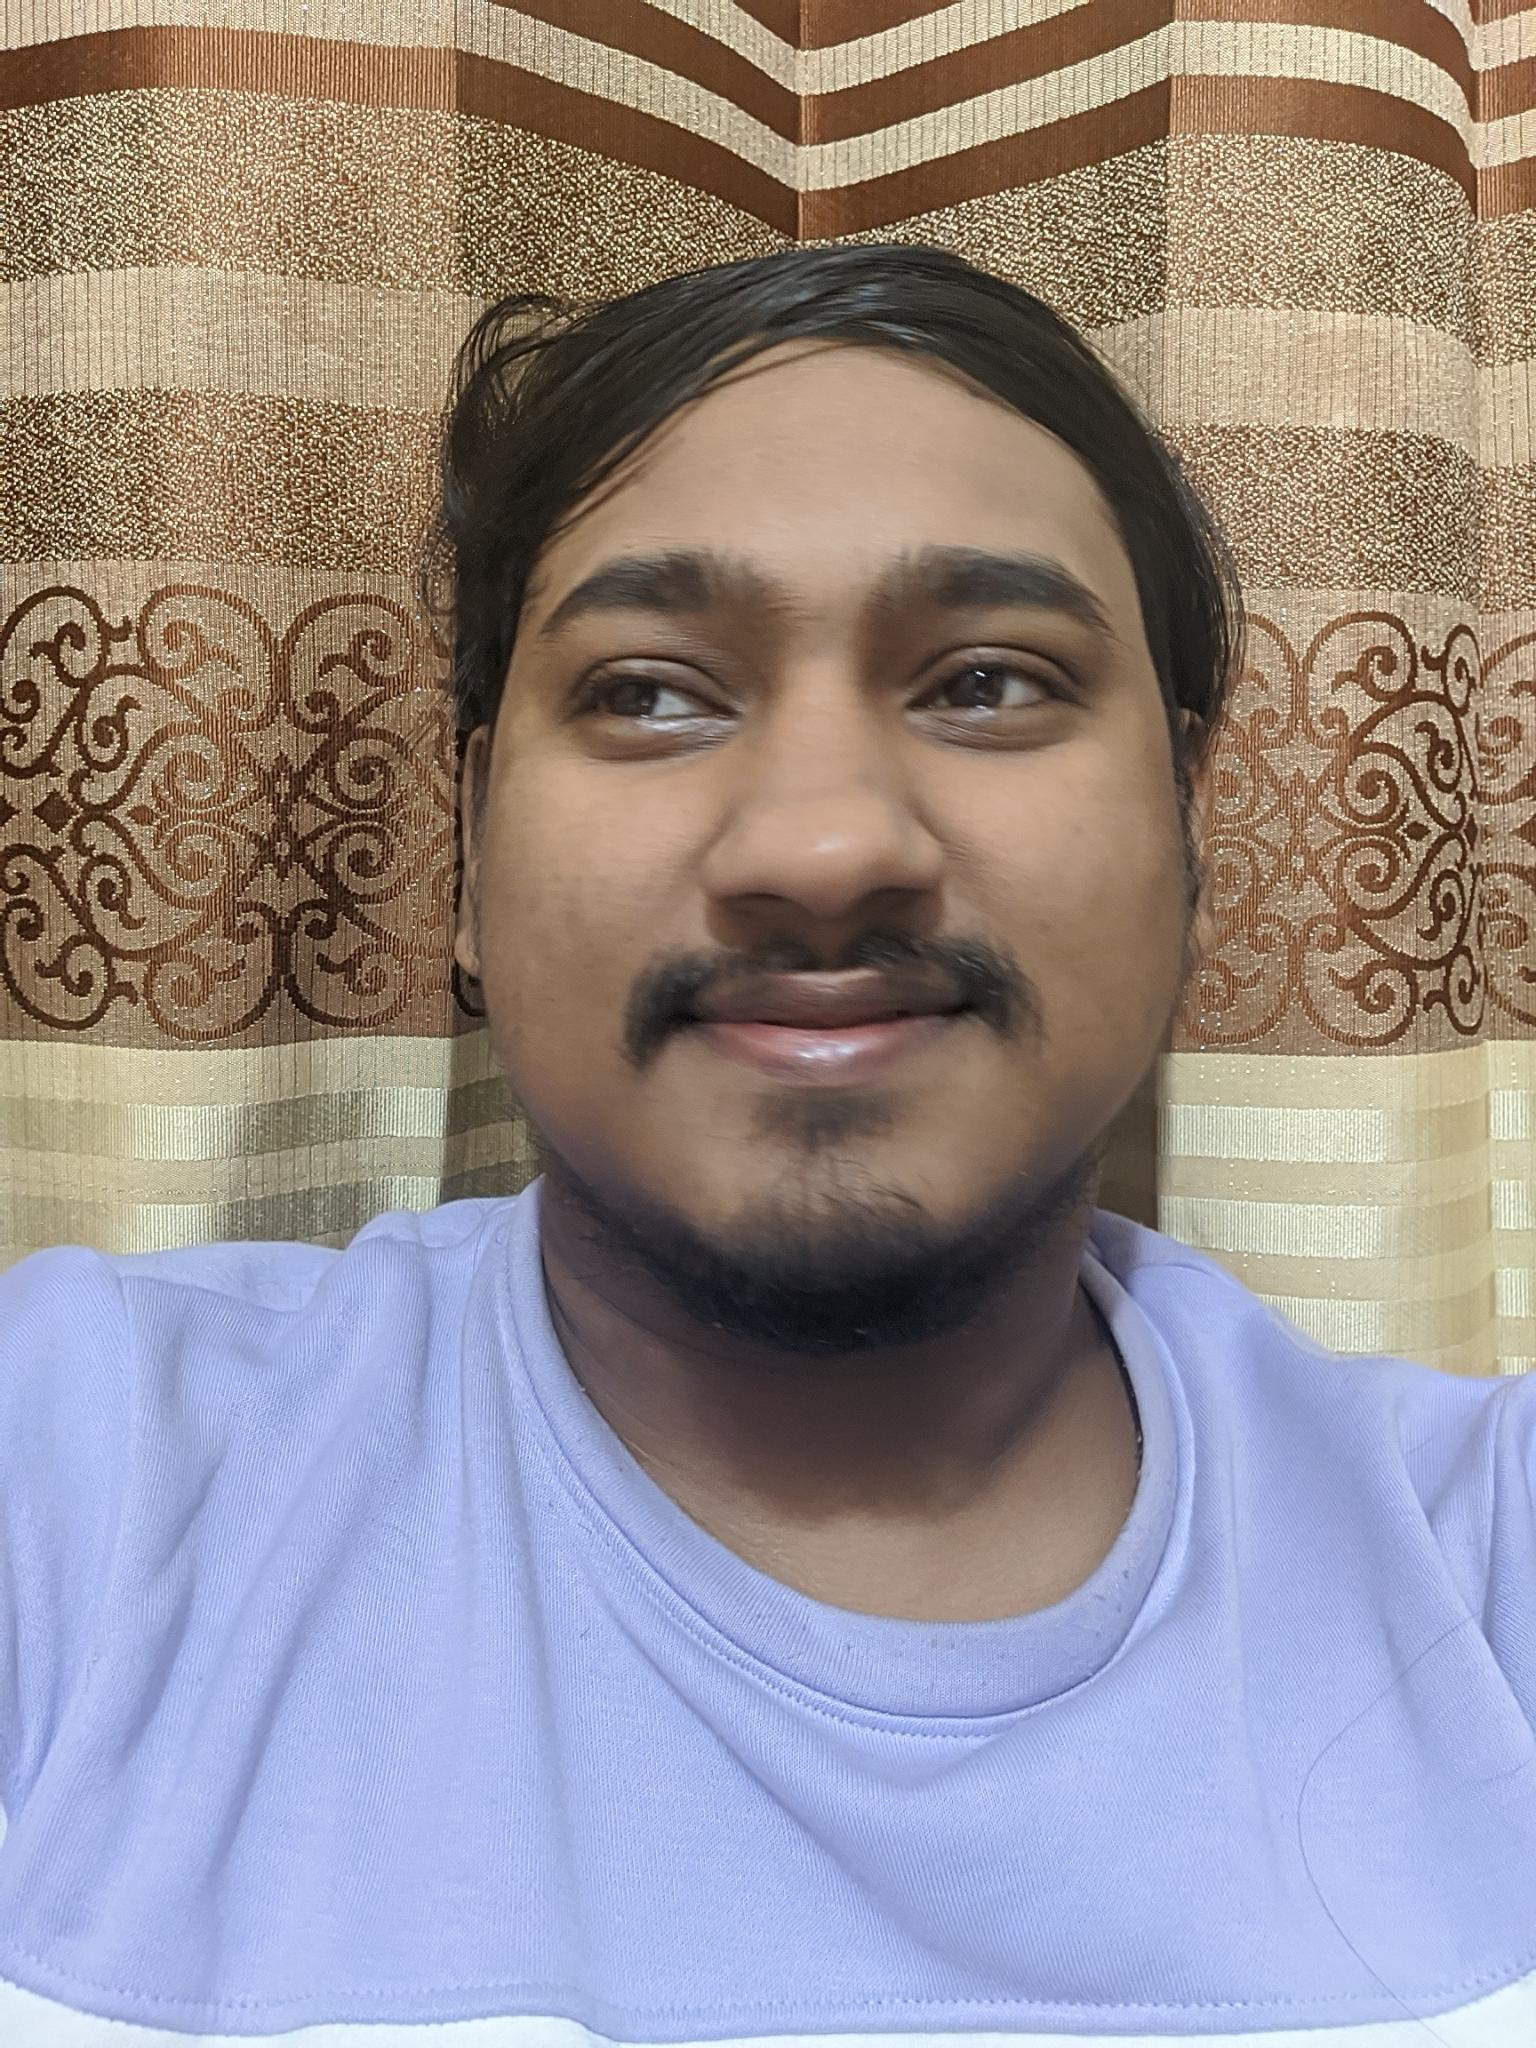Happy: (458, 531, 1197, 1258)
